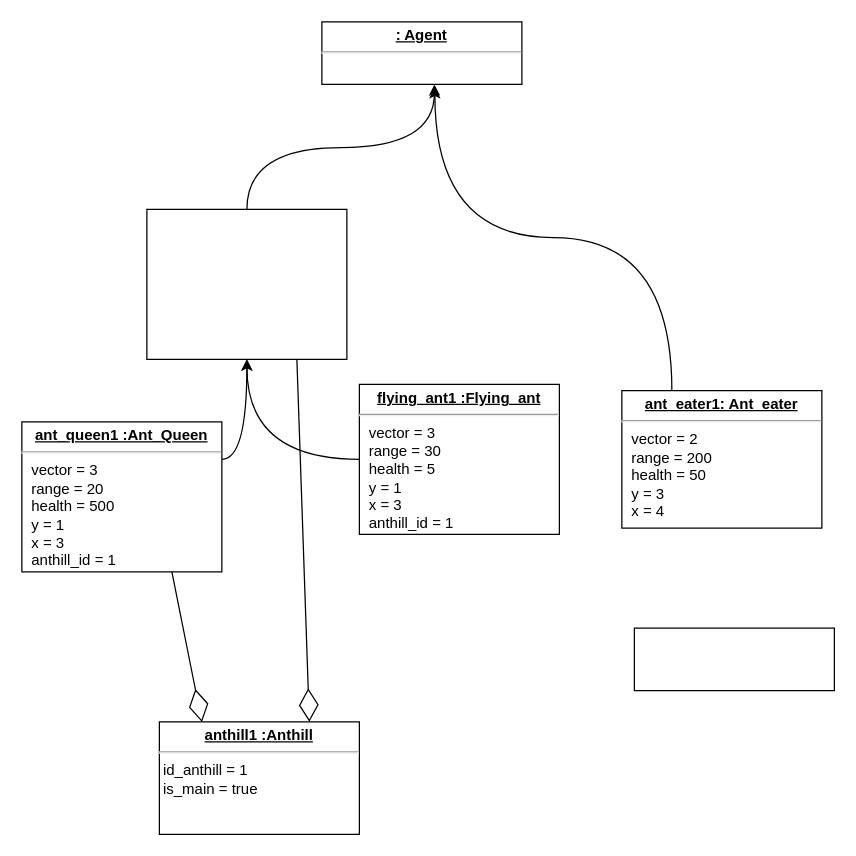
The diagram is 856 pixels wide and 856 high, and some of its shapes have lost their labels. The shapes that lost their labels are listed below. From the top down, each one's centre as x and y in pixels, then its label:
At pixel 246 283: "ant1 :Ant vector = 3 range = 20 health = 5 y = 1 x = 3 anthill_id = 1".
At pixel 733 659: "food1:Food quality = LOW".
